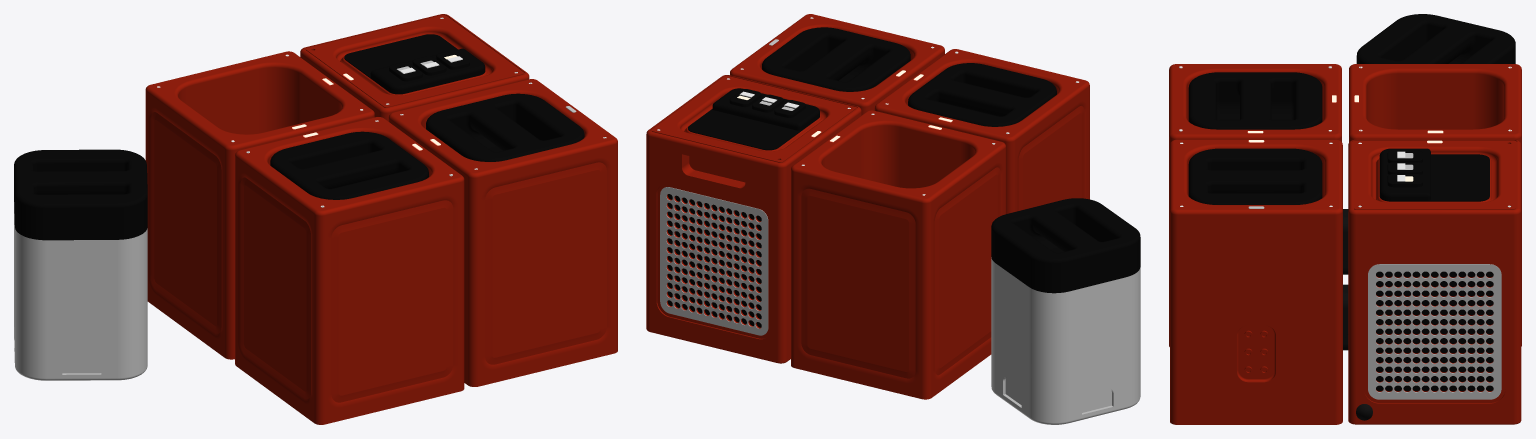
The model's file is tensile.glb.
3 views of the same model, side by side, from view 1: azimuth 30°, elevation 25°; view 2: azimuth 150°, elevation 25°; view 3: azimuth 270°, elevation 25° (orthographic). The views are drawn at different scales.
Parts seen in each view (by area): view 1: Body531011, Body404011, Body397011, Body509037, Body510037, Body401011, Body510035, Body510036, Body475011, Body495011; view 2: Body397011, Body401011, Body509037, Body531011, Body510037, Body441011, Body510036, Body510035, Body404011, Plane074, Body475011, Body495011; view 3: Body404011, Body401011, Body397011, Body474011, Body510035, Body510036, Plane075, Body510037, Body531011, Body475011, Body495011, Body497011 (+2 smaller).
Part boxes in pixels (x1,y1,x2,y2): Body531011: (235, 117, 464, 424); Body404011: (388, 79, 617, 386); Body397011: (145, 51, 374, 359); Body509037: (14, 202, 147, 380); Body510037: (14, 149, 147, 240); Body401011: (300, 14, 529, 121); Body510035: (270, 131, 428, 199); Body510036: (426, 93, 584, 161); Body475011: (344, 34, 485, 94); Body495011: (370, 48, 485, 93); Body397011: (791, 110, 1005, 399); Body401011: (646, 75, 861, 363); Body509037: (991, 257, 1140, 424); Body531011: (874, 49, 1089, 213); Body510037: (991, 198, 1140, 293); Body441011: (660, 187, 768, 335); Body510036: (762, 27, 910, 91); Body510035: (908, 63, 1056, 126); Body404011: (730, 14, 944, 114); Plane074: (668, 194, 761, 327); Body475011: (688, 109, 819, 150); Body495011: (712, 88, 819, 130); Body404011: (1170, 139, 1342, 424); Body401011: (1348, 139, 1521, 424); Body397011: (1349, 64, 1521, 346); Body474011: (1368, 264, 1501, 399); Body510035: (1188, 72, 1322, 129); Body510036: (1188, 148, 1322, 204); Plane075: (1376, 271, 1493, 391); Body510037: (1356, 14, 1515, 63); Body531011: (1169, 64, 1341, 346); Body475011: (1379, 154, 1489, 201); Body495011: (1379, 148, 1430, 200); Body497011: (1387, 174, 1422, 187).
Bounding box in the file's own units: 2.56 × 1.13 × 1.63.
15 materials, 3 textured.
